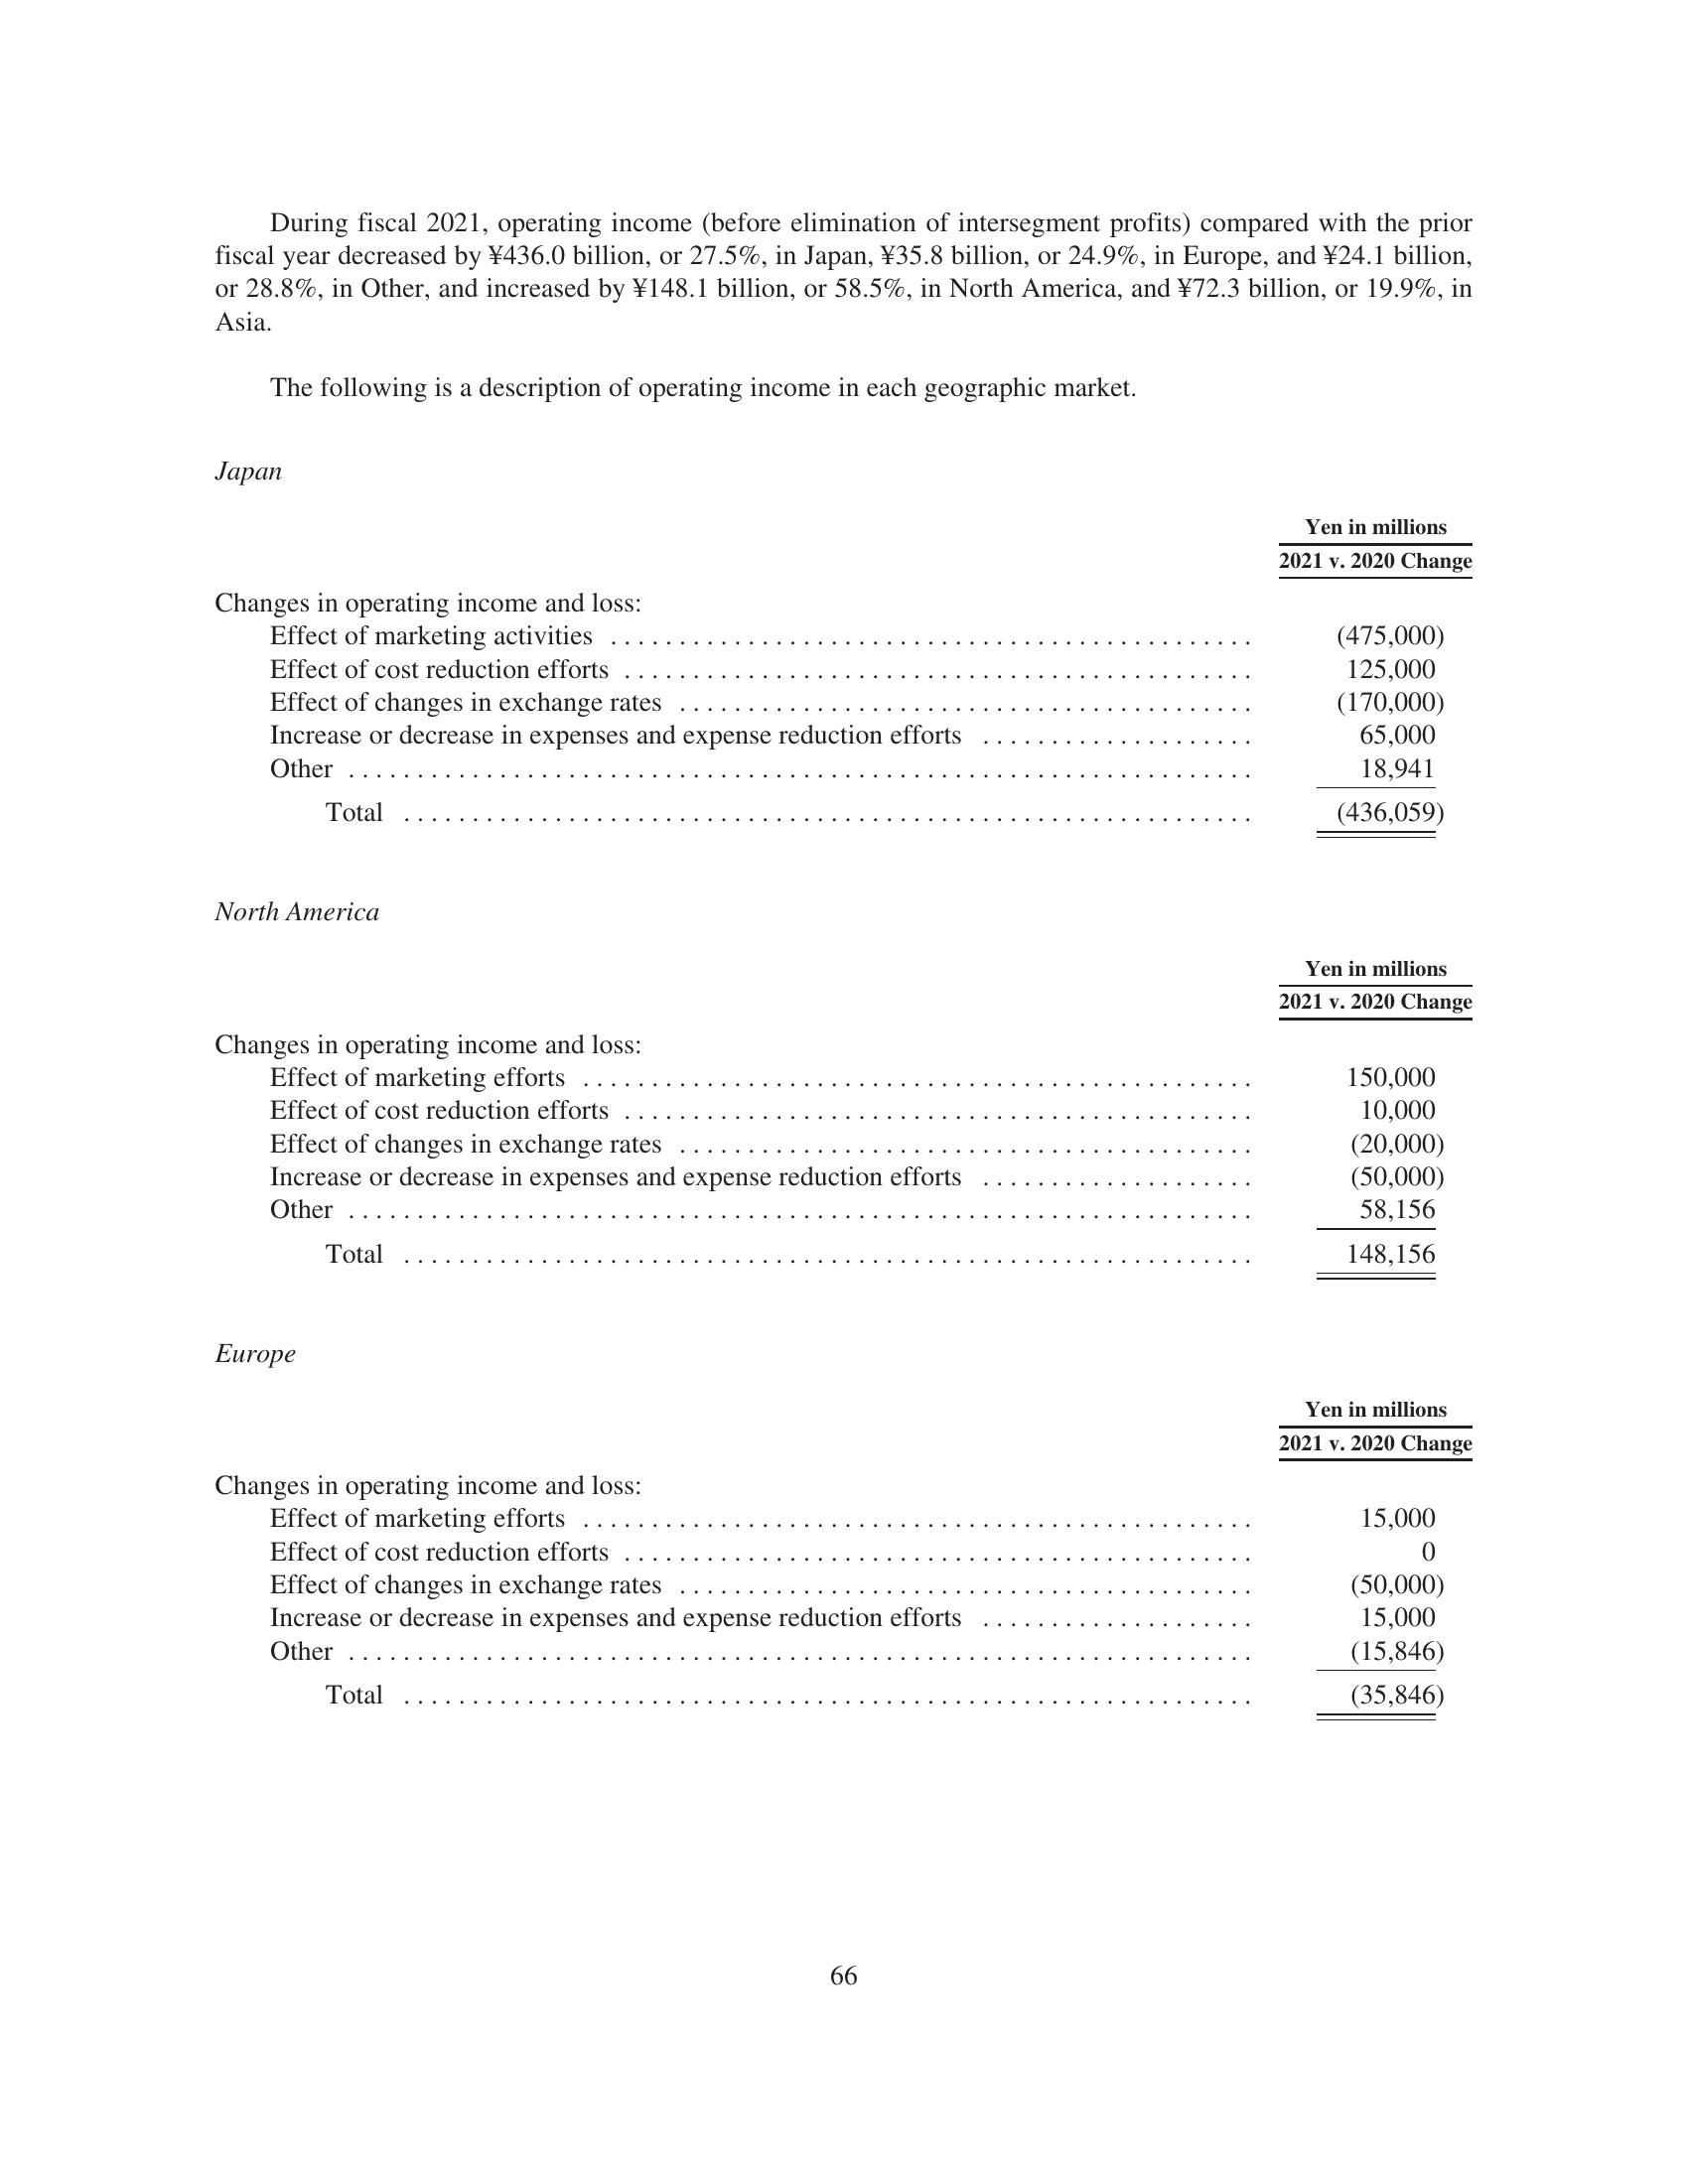Footer: (0, 1932, 1688, 2180)
Header: (0, 0, 1688, 179)
Table: (160, 507, 1504, 902), (179, 941, 1512, 1328), (176, 1392, 1495, 1732)
